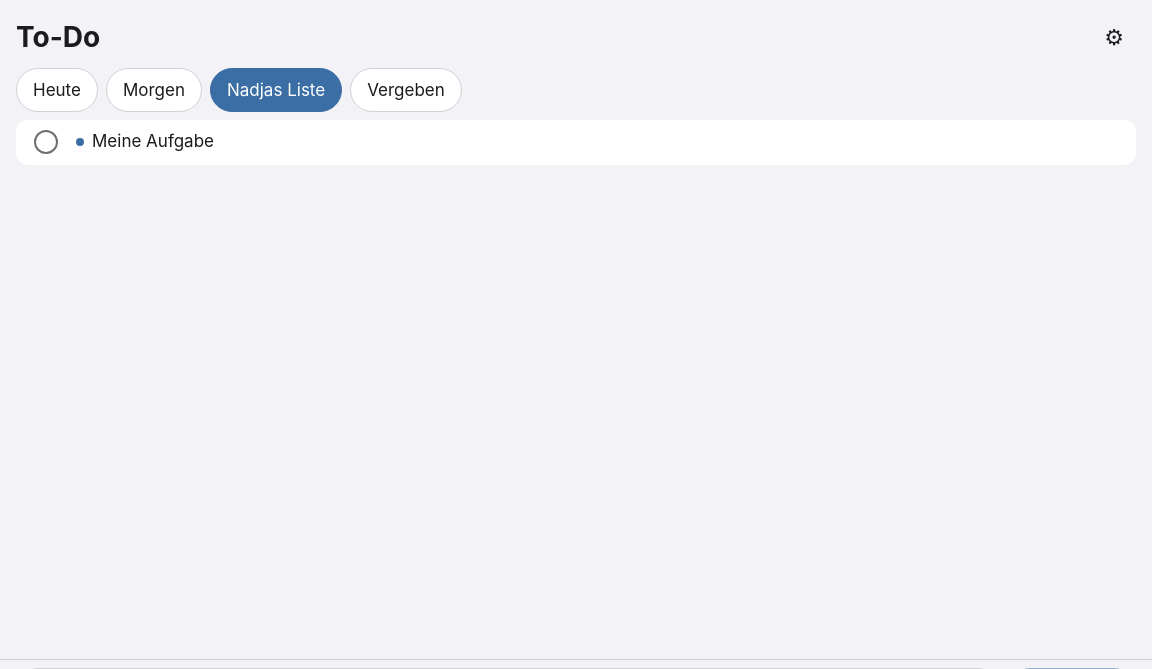
Test case: App with two people › hands a task over through the detail sheet and closes it
Click the button "Meine Aufgabe": coordinates (153, 141) [92,120,1136,165]
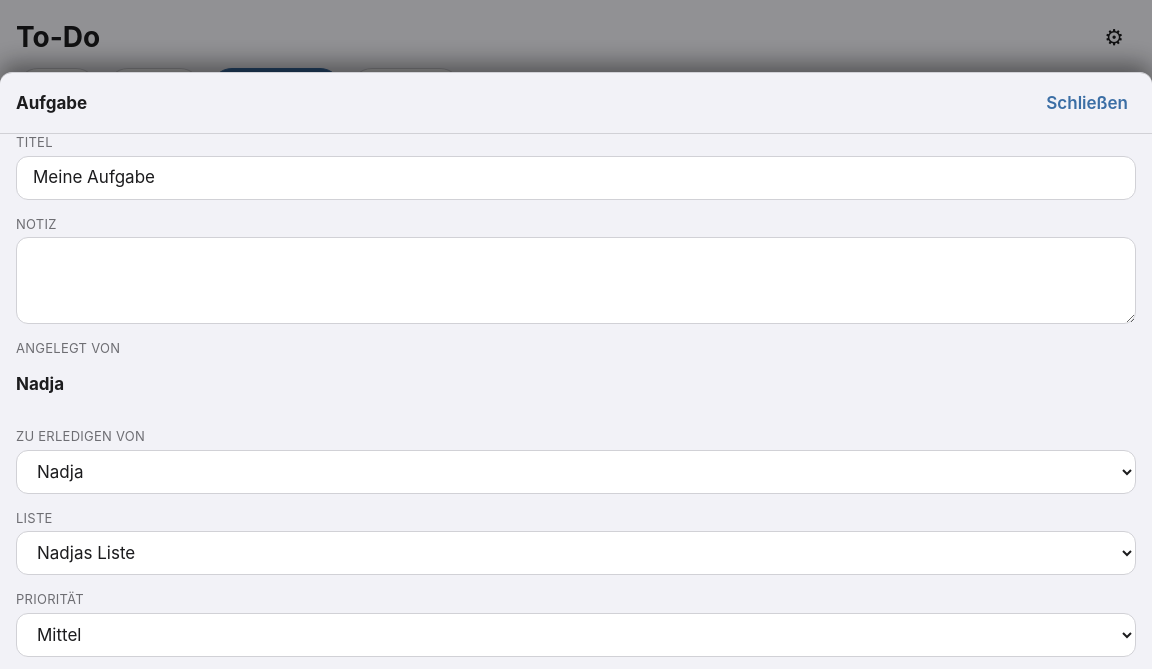
Select "Gerald" in the dropdown labelled "Zu erledigen von": coordinates (576, 472) [16,450,1136,494]
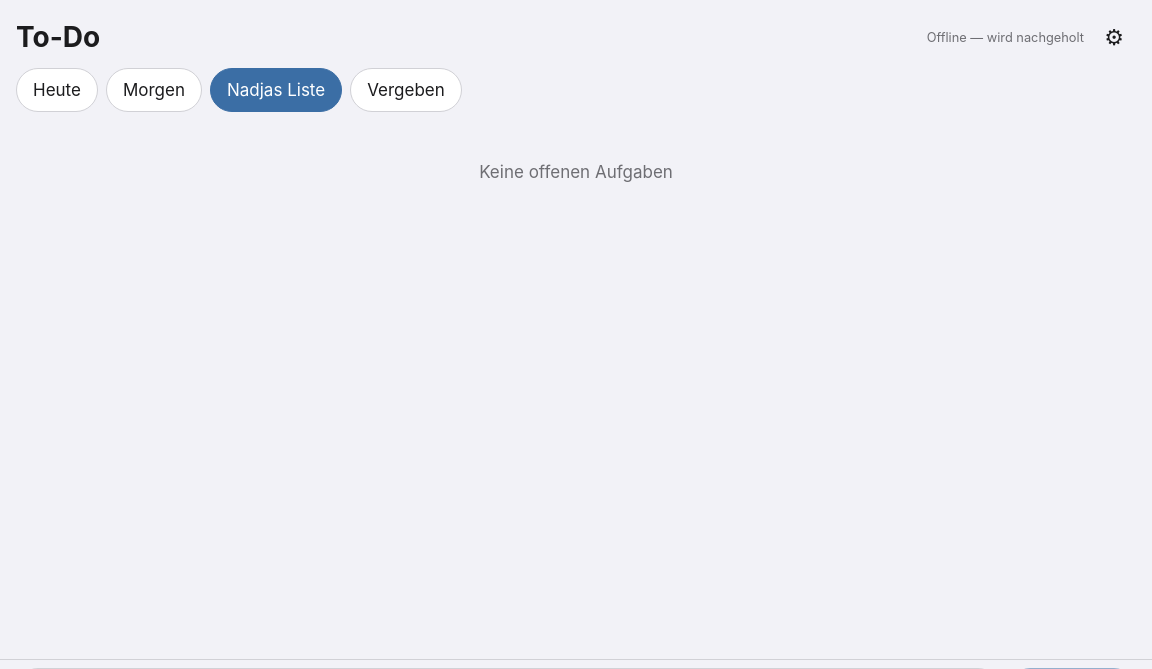
Expected: the button "Meine Aufgabe" is gone
